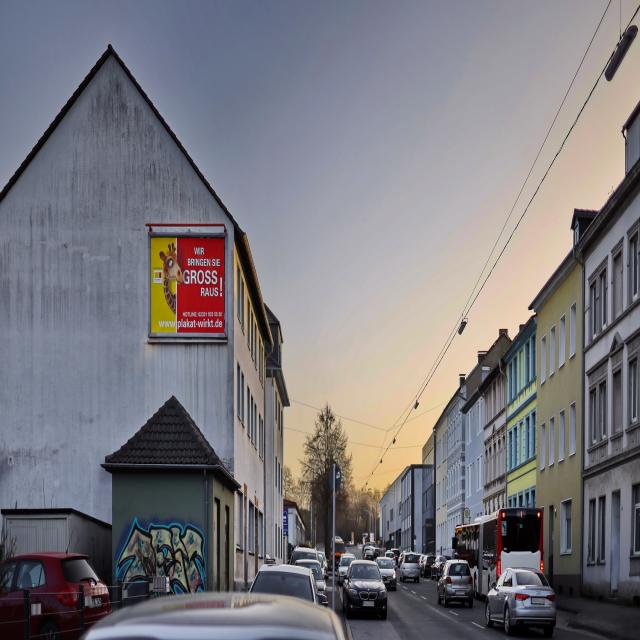Werbetafel frei: (147, 223, 230, 346)
